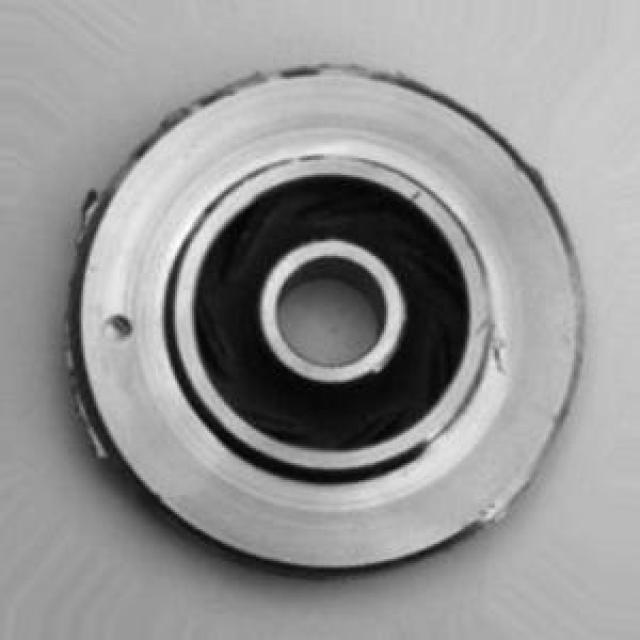Defect: (103, 313, 139, 343)
